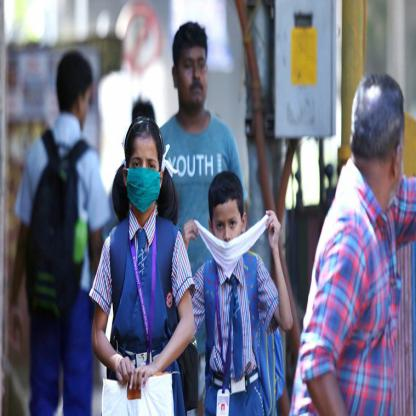Not_Wearing_Mask: (178, 40, 212, 122)
Wearing_Mask: (120, 136, 167, 225), (208, 191, 244, 267)
